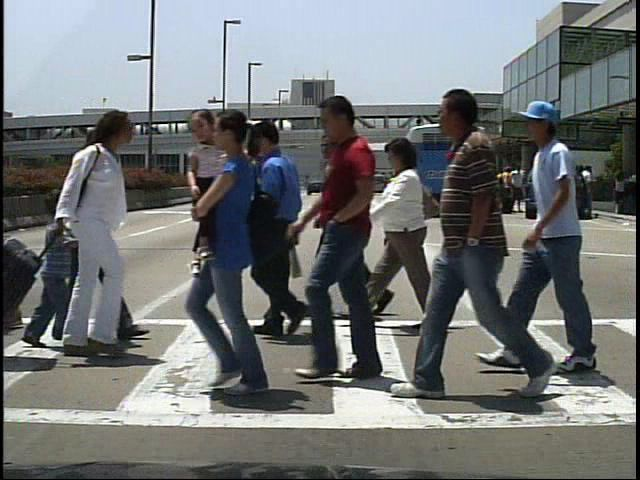person: (429, 84, 547, 418), (39, 113, 150, 362), (317, 95, 401, 383), (230, 122, 330, 346), (518, 101, 596, 377), (368, 136, 456, 336), (310, 130, 382, 322), (65, 114, 120, 361), (13, 195, 78, 357), (582, 168, 602, 218), (507, 166, 527, 215), (495, 165, 513, 218)
